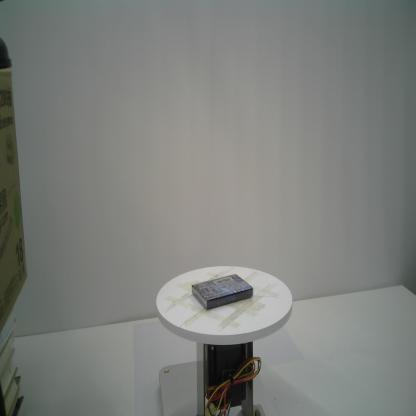Gum: (191, 272, 254, 312)
